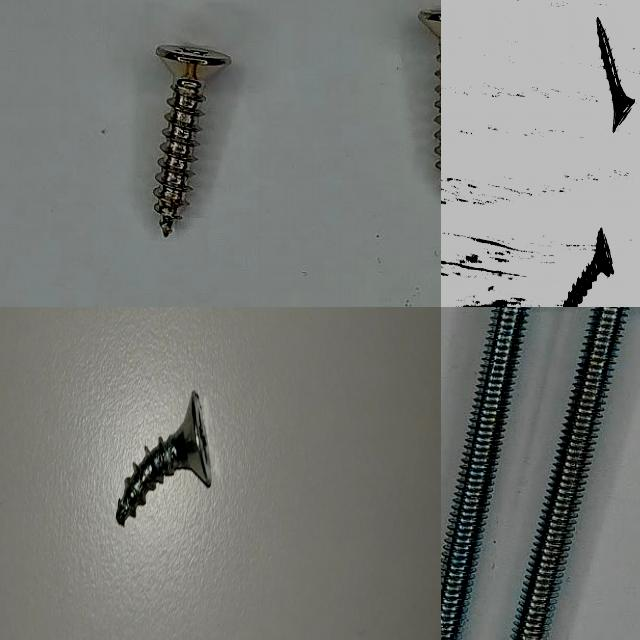Screw: (511, 307, 628, 640), (441, 307, 528, 640), (154, 45, 232, 237), (116, 390, 212, 526), (597, 16, 635, 131), (562, 228, 614, 307)
